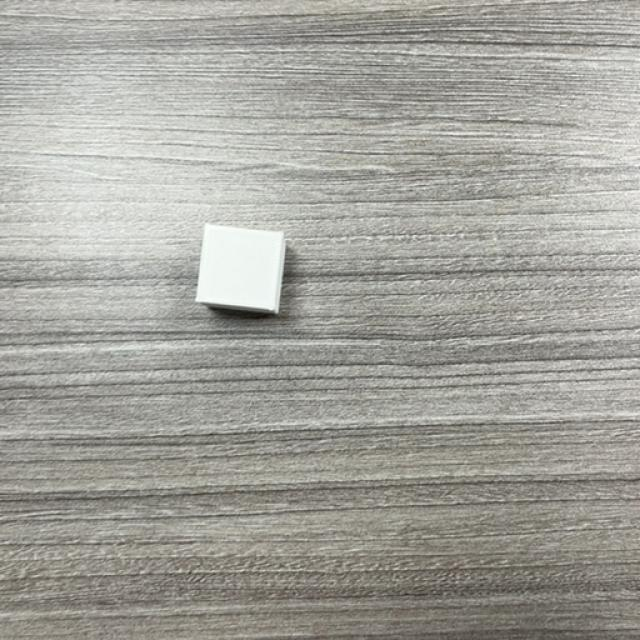Blanco: (195, 225, 286, 318)
